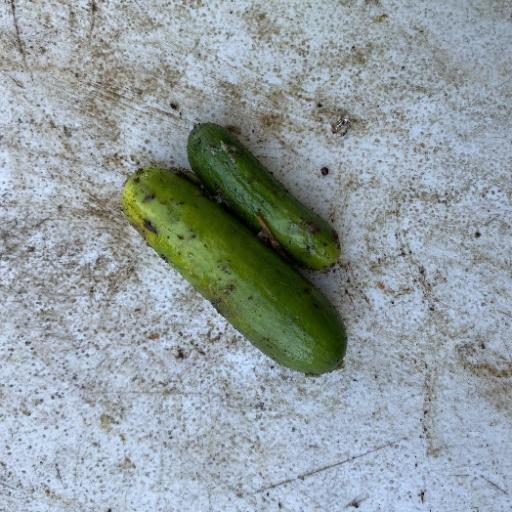Waste: (119, 120, 350, 378), (184, 120, 342, 274)
